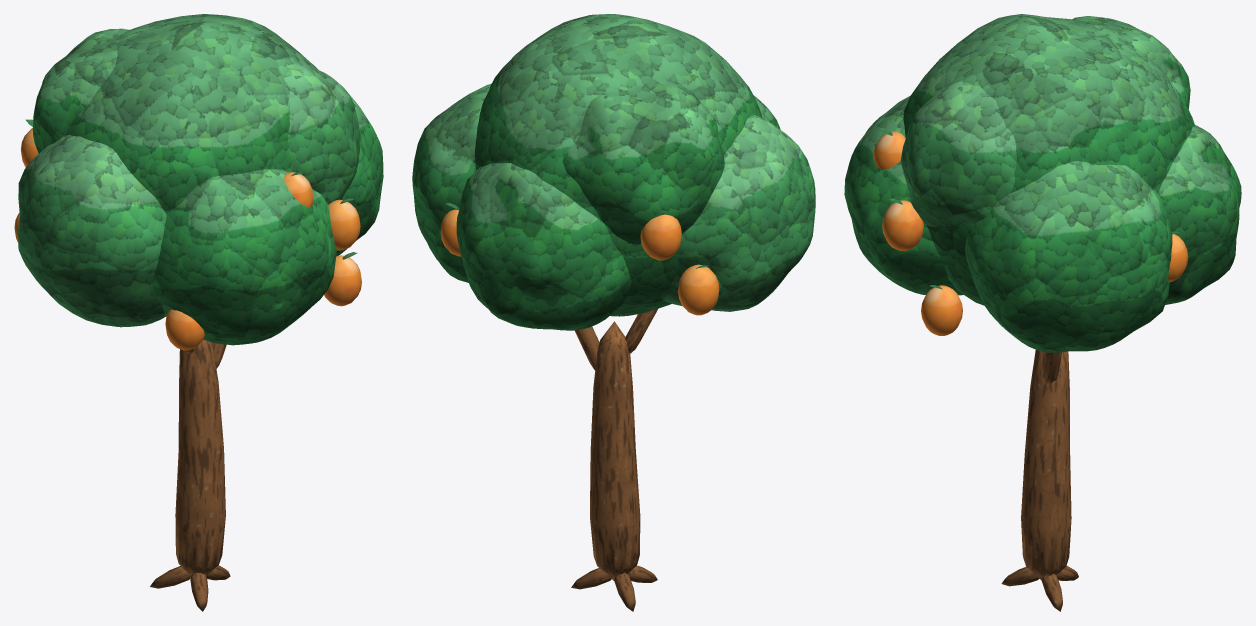
The model's file is mango_tree.glb.
3 views of the same model, side by side, from view 1: azimuth 30°, elevation 25°; view 2: azimuth 150°, elevation 25°; view 3: azimuth 270°, elevation 25° (orthographic).
Parts seen in each view (by area): view 1: Crown_leaf, Trunk, Fruit; view 2: Crown_leaf, Trunk, Fruit; view 3: Crown_leaf, Trunk, Fruit.
Boxes of the visible parts, left/top/right/bottom form: Crown_leaf: left=18, top=14, right=383, bottom=345; Trunk: left=150, top=339, right=230, bottom=611; Fruit: left=14, top=119, right=361, bottom=350; Crown_leaf: left=412, top=14, right=815, bottom=330; Trunk: left=571, top=309, right=657, bottom=611; Fruit: left=440, top=203, right=719, bottom=315; Crown_leaf: left=844, top=14, right=1241, bottom=352; Trunk: left=1001, top=350, right=1078, bottom=611; Fruit: left=873, top=127, right=1188, bottom=335.
Size of the model in its own units: 2.53 by 3.86 by 2.45.
1 material, 1 textured.
